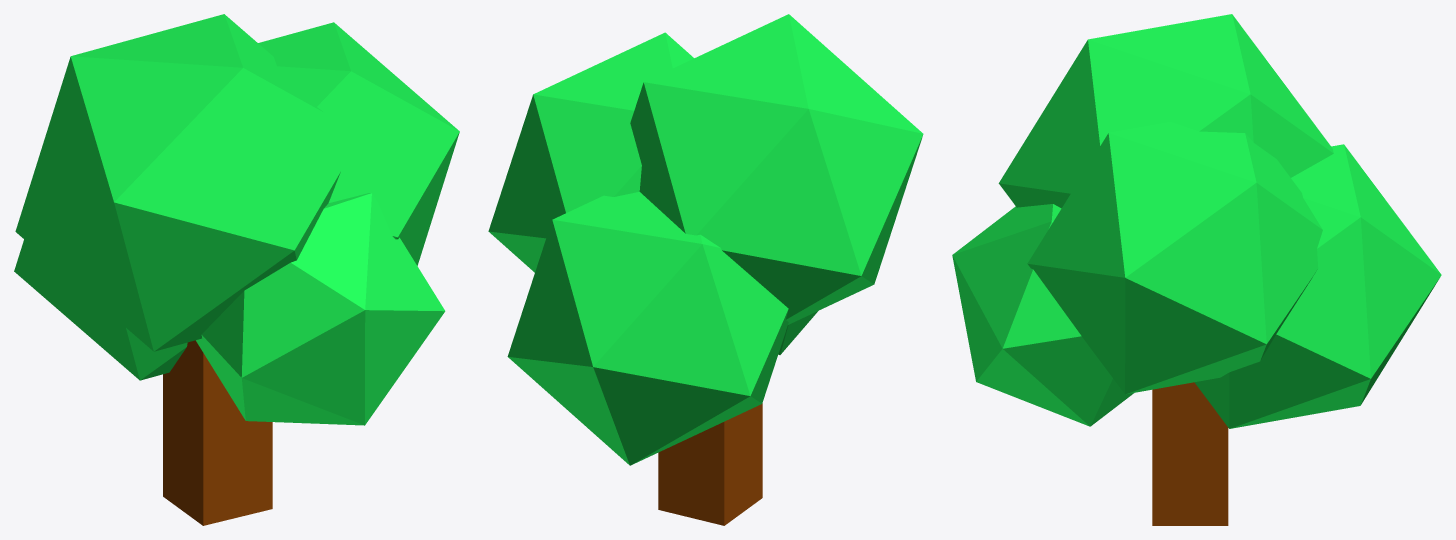
File: wood9.fbx
The picture shows the model from 3 angles, left to right: view 1: azimuth 30°, elevation 25°; view 2: azimuth 150°, elevation 25°; view 3: azimuth 270°, elevation 25°; orthographic projection. The views are drawn at different scales.
Visible parts, largest first — view 1: wood.008; view 2: wood.008; view 3: wood.008.
Boxes of the visible parts, box(x1,y1,x2,y2) form: wood.008: box(14, 14, 459, 525); wood.008: box(488, 14, 923, 525); wood.008: box(952, 14, 1441, 525).
Size of the model in its own units: 233 by 276 by 268.
